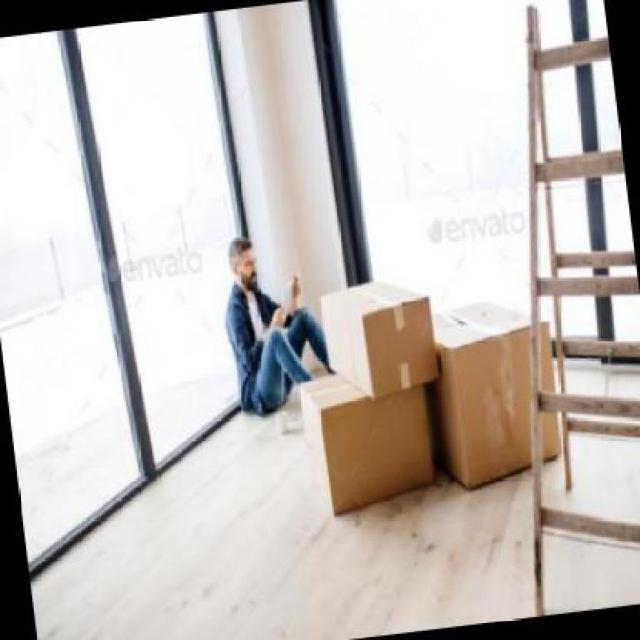box: (432, 292, 580, 500), (298, 369, 445, 533), (313, 270, 444, 404)
